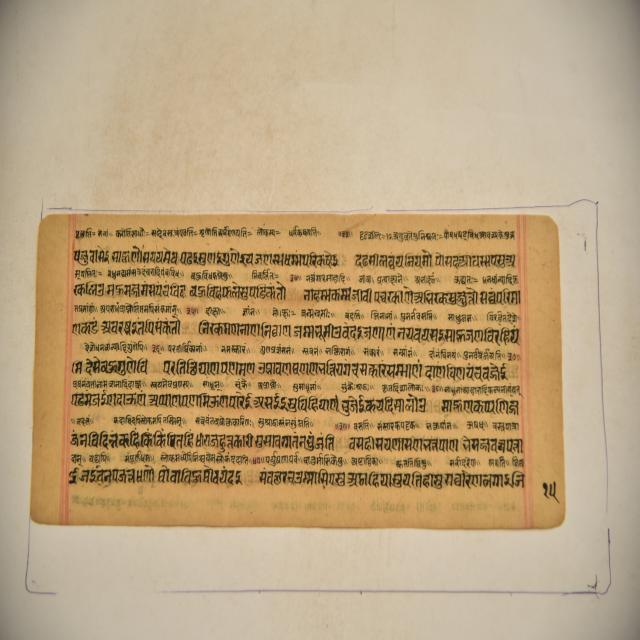text_paragraph: (28, 208, 563, 525)
